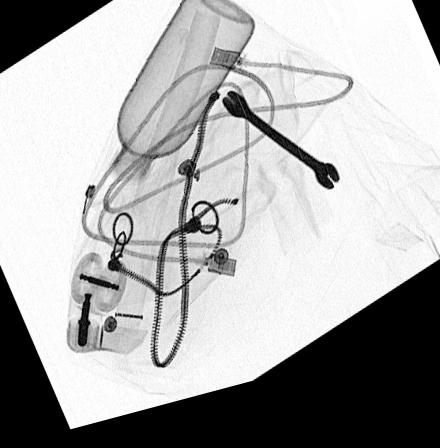Wrench: (220, 101, 342, 206)
